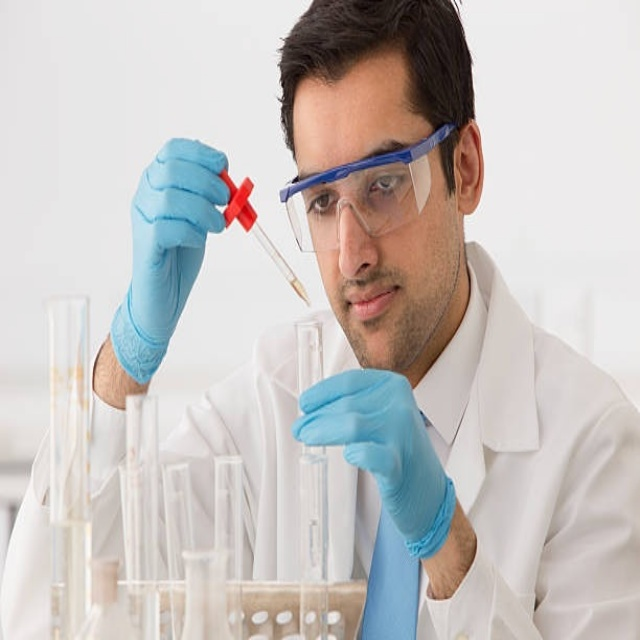Gafas: (284, 127, 452, 253)
Guantes: (290, 366, 455, 558), (110, 136, 233, 383)
Sin_mascara: (338, 281, 404, 350)
